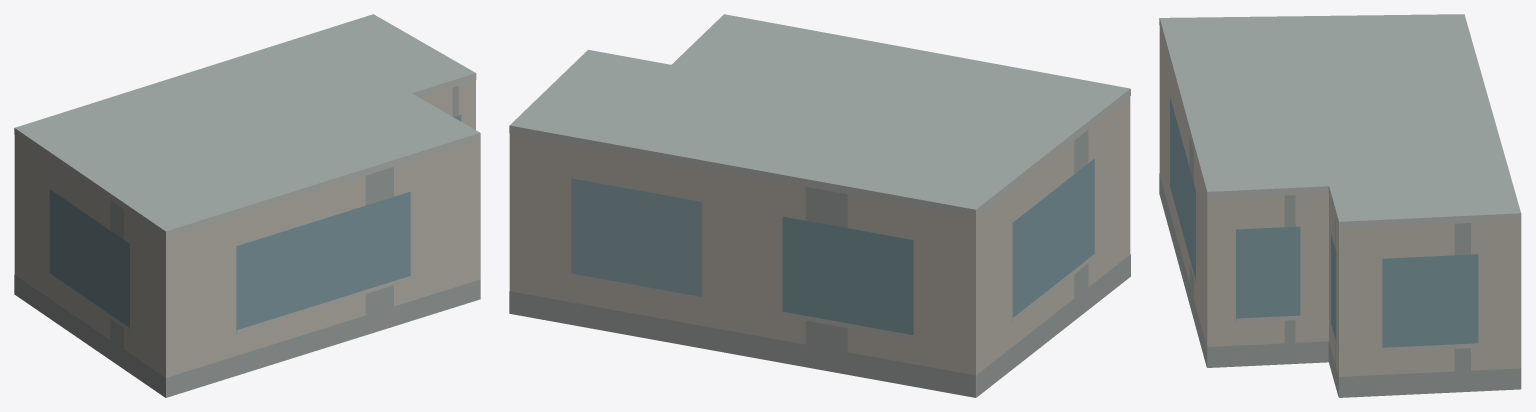
Rendered from residential-951188e2-85c3-4875-8e00-3cc0136cd4a6.glb.
3 views of the same model, side by side, from view 1: azimuth 30°, elevation 25°; view 2: azimuth 150°, elevation 25°; view 3: azimuth 270°, elevation 25° (orthographic). The views are drawn at different scales.
Parts seen in each view (by area): view 1: residential-951188e2-85c3-4875-8e00-3cc0136cd4a6.tmp; view 2: residential-951188e2-85c3-4875-8e00-3cc0136cd4a6.tmp; view 3: residential-951188e2-85c3-4875-8e00-3cc0136cd4a6.tmp.
Boxes of the visible parts, left/top/right/bottom form: residential-951188e2-85c3-4875-8e00-3cc0136cd4a6.tmp: left=14, top=14, right=480, bottom=397; residential-951188e2-85c3-4875-8e00-3cc0136cd4a6.tmp: left=509, top=14, right=1130, bottom=397; residential-951188e2-85c3-4875-8e00-3cc0136cd4a6.tmp: left=1159, top=14, right=1521, bottom=397.
Size of the model in its own units: 7.73 by 3.05 by 5.69.
